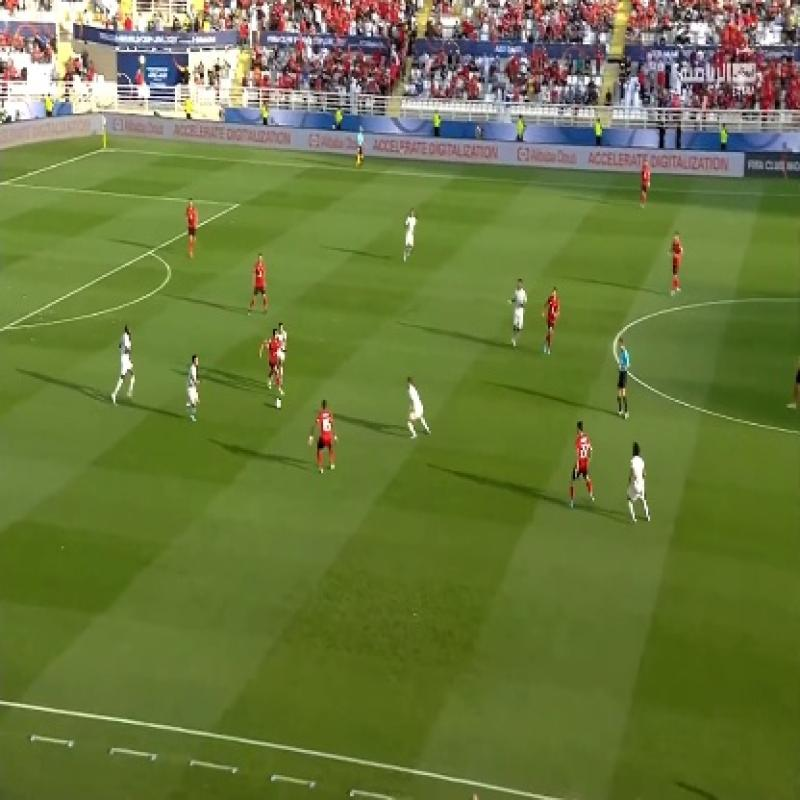1: (94, 138, 112, 154)
10: (138, 238, 160, 262)
11: (0, 311, 17, 336)
2: (0, 171, 13, 192)
9: (226, 192, 243, 213)
c: (604, 327, 628, 359)
